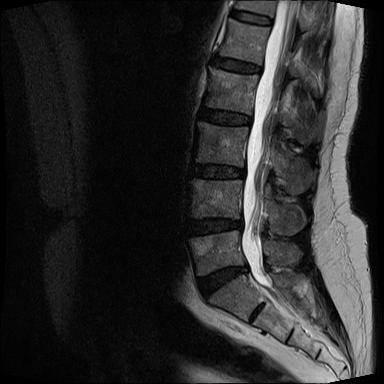Lumbar Disc Bulge (LDB): (193, 259, 255, 304), (183, 210, 249, 241), (208, 51, 266, 79), (186, 160, 250, 184)
Normal IVD: (195, 103, 255, 134), (226, 7, 276, 29)
Spinal Stenosis (SS): (231, 214, 246, 234), (252, 62, 268, 79), (241, 260, 252, 278)
